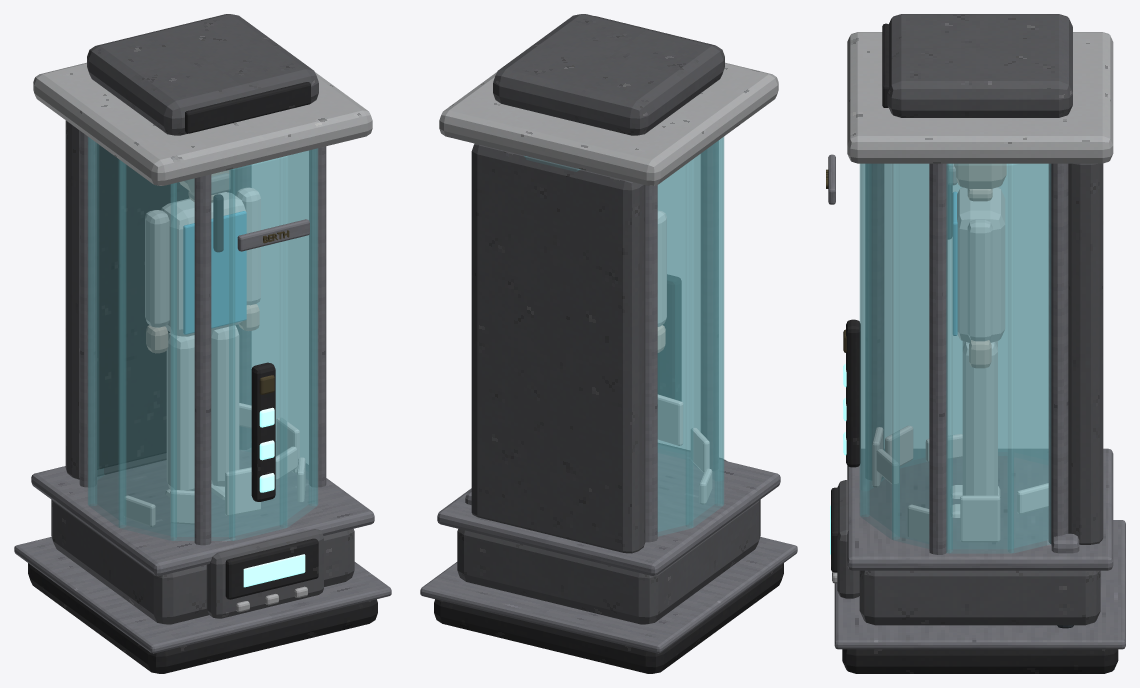
The model's file is decor_med_cryo_pod_occupied.glb.
3 renders of one model, left to right at view 1: azimuth 30°, elevation 25°; view 2: azimuth 150°, elevation 25°; view 3: azimuth 270°, elevation 25°, orthographic. The views are drawn at different scales.
Visible parts, largest first — view 1: DEC_MedCryoPodOccupied__Glass_8, DEC_MedCryoPodOccupied__Shell_Back_Trim, DEC_MedCryoPodOccupied__Glass_10, DEC_MedCryoPodOccupied__Glass_9, DEC_MedCryoPodOccupied__Cap, DEC_MedCryoPodOccupied__Collar_Low, DEC_MedCryoPodOccupied__Head_Unit, DEC_MedCryoPodOccupied__Glass_7, DEC_MedCryoPodOccupied__Glass_11, DEC_MedCryoPodOccupied__Plinth_Trim, DEC_MedCryoPodOccupied__Machinery, DEC_MedCryoPodOccupied__Plinth (+27 smaller); view 2: DEC_MedCryoPodOccupied__Shell_Back, DEC_MedCryoPodOccupied__Head_Unit, DEC_MedCryoPodOccupied__Cap, DEC_MedCryoPodOccupied__Machinery, DEC_MedCryoPodOccupied__Glass_7, DEC_MedCryoPodOccupied__Glass_6, DEC_MedCryoPodOccupied__Collar_Low, DEC_MedCryoPodOccupied__Plinth_Trim, DEC_MedCryoPodOccupied__Plinth, DEC_MedCryoPodOccupied__Frame_Rib_3, DEC_MedCryoPodOccupied__Frame_Rib_2, DEC_MedCryoPodOccupied__Glass_10 (+6 smaller); view 3: DEC_MedCryoPodOccupied__Glass_1, DEC_MedCryoPodOccupied__Head_Unit, DEC_MedCryoPodOccupied__Cap, DEC_MedCryoPodOccupied__Collar_Low, DEC_MedCryoPodOccupied__Glass_12, DEC_MedCryoPodOccupied__Glass_2, DEC_MedCryoPodOccupied__Glass_11, DEC_MedCryoPodOccupied__Shell_Back, DEC_MedCryoPodOccupied__Machinery, DEC_MedCryoPodOccupied__Glass_6, DEC_MedCryoPodOccupied__Plinth_Trim, DEC_MedCryoPodOccupied__Glass_8 (+25 smaller).
Boxes of the visible parts, box(x1,y1,x2,y2) form: DEC_MedCryoPodOccupied__Glass_8: box(119, 160, 176, 540); DEC_MedCryoPodOccupied__Shell_Back_Trim: box(97, 143, 233, 469); DEC_MedCryoPodOccupied__Glass_10: box(229, 156, 286, 540); DEC_MedCryoPodOccupied__Glass_9: box(171, 169, 234, 540); DEC_MedCryoPodOccupied__Cap: box(33, 62, 372, 185); DEC_MedCryoPodOccupied__Collar_Low: box(31, 448, 374, 575); DEC_MedCryoPodOccupied__Head_Unit: box(87, 14, 318, 135); DEC_MedCryoPodOccupied__Glass_7: box(88, 137, 125, 527); DEC_MedCryoPodOccupied__Glass_11: box(280, 148, 317, 527); DEC_MedCryoPodOccupied__Plinth_Trim: box(14, 537, 391, 653); DEC_MedCryoPodOccupied__Machinery: box(51, 499, 354, 624); DEC_MedCryoPodOccupied__Plinth: box(28, 563, 377, 673); DEC_MedCryoPodOccupied__Shell_Back: box(471, 143, 645, 553); DEC_MedCryoPodOccupied__Head_Unit: box(493, 14, 724, 135); DEC_MedCryoPodOccupied__Cap: box(439, 62, 778, 185); DEC_MedCryoPodOccupied__Machinery: box(457, 499, 760, 624); DEC_MedCryoPodOccupied__Glass_7: box(686, 137, 723, 527); DEC_MedCryoPodOccupied__Glass_6: box(657, 160, 692, 536); DEC_MedCryoPodOccupied__Collar_Low: box(437, 445, 780, 575); DEC_MedCryoPodOccupied__Plinth_Trim: box(420, 537, 797, 653); DEC_MedCryoPodOccupied__Plinth: box(434, 563, 783, 673); DEC_MedCryoPodOccupied__Frame_Rib_3: box(701, 141, 718, 470); DEC_MedCryoPodOccupied__Frame_Rib_2: box(645, 185, 657, 542); DEC_MedCryoPodOccupied__Glass_10: box(658, 165, 685, 454); DEC_MedCryoPodOccupied__Glass_1: box(947, 163, 1013, 553); DEC_MedCryoPodOccupied__Head_Unit: box(887, 14, 1072, 117); DEC_MedCryoPodOccupied__Cap: box(847, 32, 1113, 163); DEC_MedCryoPodOccupied__Collar_Low: box(847, 448, 1113, 570); DEC_MedCryoPodOccupied__Glass_12: box(892, 163, 952, 552); DEC_MedCryoPodOccupied__Glass_2: box(1008, 163, 1050, 552); DEC_MedCryoPodOccupied__Glass_11: box(860, 163, 899, 539); DEC_MedCryoPodOccupied__Shell_Back: box(1068, 163, 1103, 544); DEC_MedCryoPodOccupied__Machinery: box(859, 570, 1100, 625); DEC_MedCryoPodOccupied__Glass_6: box(1014, 164, 1048, 460); DEC_MedCryoPodOccupied__Plinth_Trim: box(834, 520, 1125, 649); DEC_MedCryoPodOccupied__Glass_8: box(900, 164, 928, 460).
Size of the model in its own units: 1.16 by 2.52 by 1.19.
Materials: 11 (4 with a texture image).
